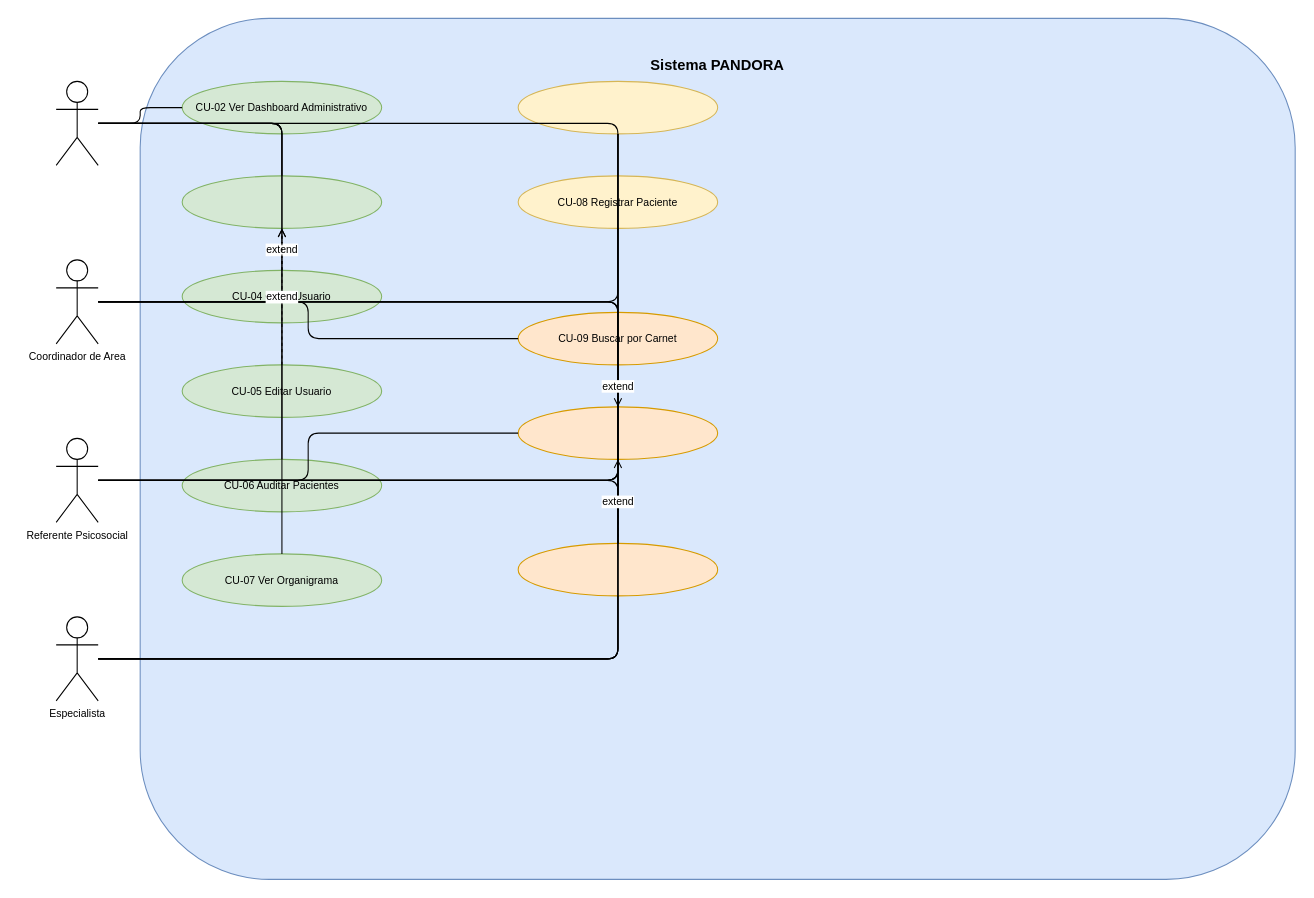
Some shapes in this 1314 by 898 pixel diagram are drawn without their labels. Here are the shapes that lost their labels. From the top down, the box of each, then its label:
(55, 80, 98, 165): Administrador (sysadmin)
(517, 80, 718, 134): CU-01 Ver Dashboard Clinico
(181, 175, 382, 228): CU-03 Gestionar Usuarios
(517, 406, 718, 459): CU-10 Ver Expediente
(517, 542, 718, 596): CU-11 Busqueda Segura UUID
